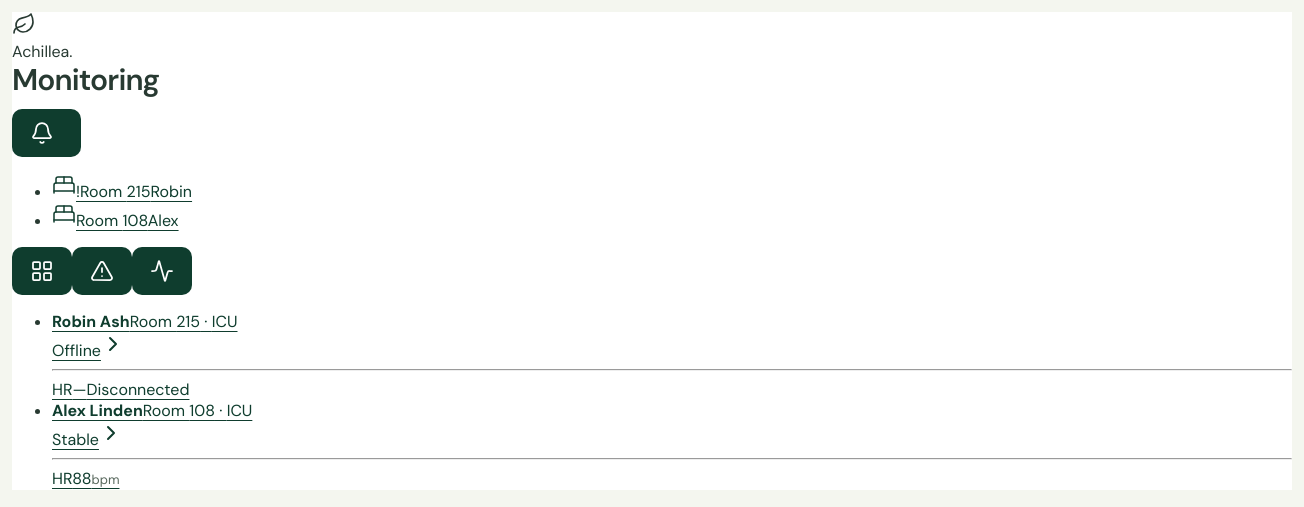
Monitoring feed visible measurement provenance › shows actual room labels and filters the patient cards through labeled controls
Check: the 1st text "Room 108" is shown, box [76,210,148,231]
Check: the 1st text "Room 215" is shown, box [80,181,150,202]
What coordinates should you click on to do the following:
click the button named "Needs Attention"
I would click on:
 (102, 271)
Its box is [72,247,132,295].
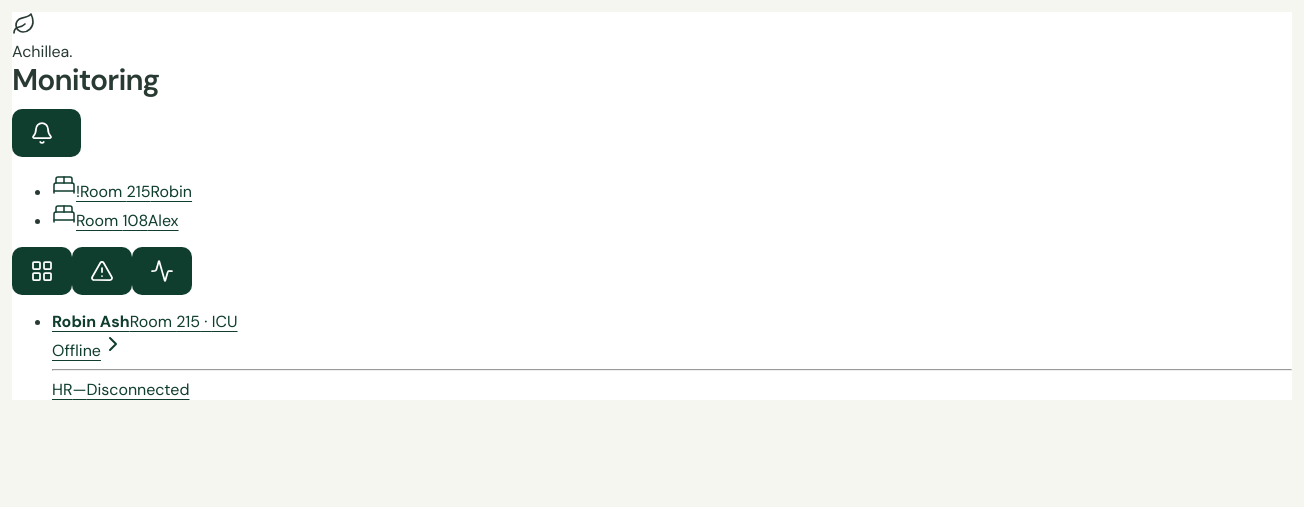
Check: the link "Robin Ash" is shown, box [52,311,1292,400]
Check: the link "Alex Linden" is gone
What coordinates should you click on to do the following:
click the button named "Stable"
I would click on:
 (162, 271)
Its box is [132,247,192,295].
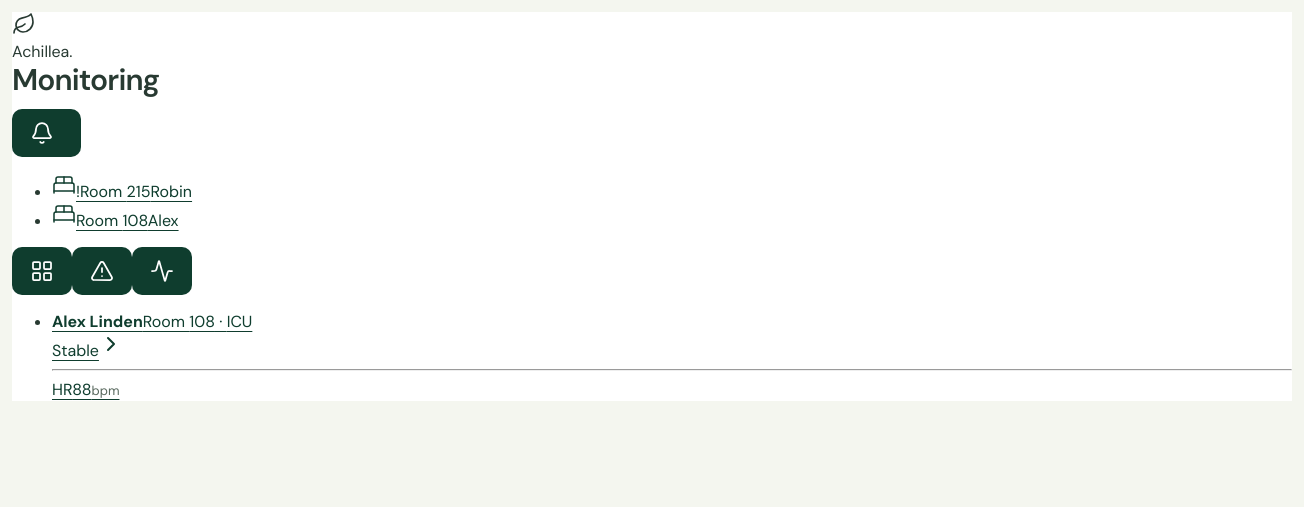
Check: the link "Alex Linden" is shown, box [52,311,1292,401]
Check: the link "Robin Ash" is gone
What coordinates should you click on to do the following:
click the button named "1 patient needs attention"
I would click on:
 (46, 133)
Its box is [12,109,81,157].
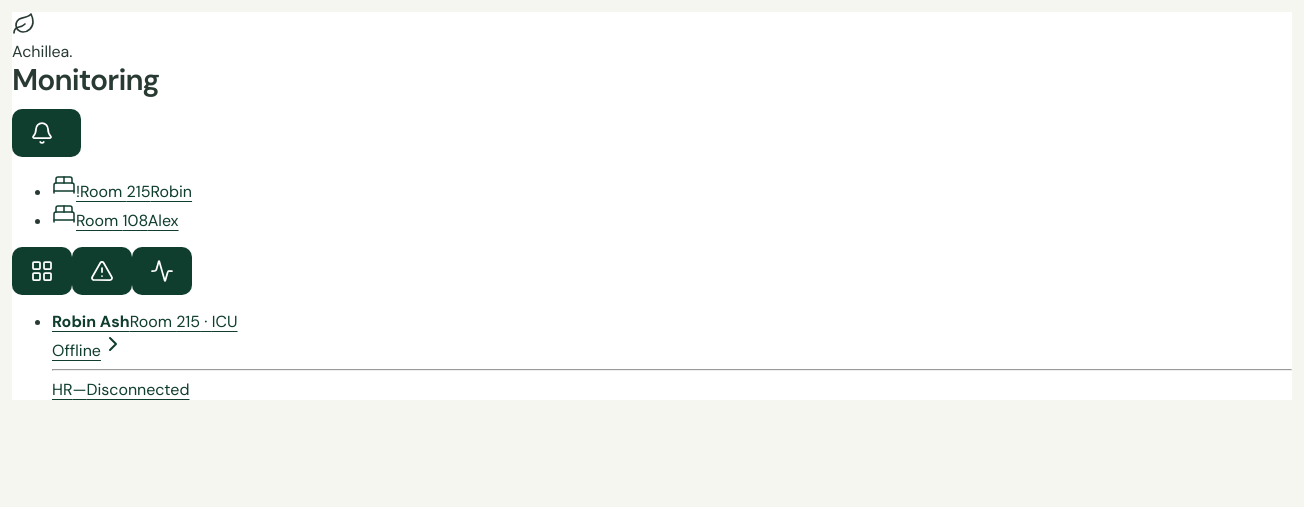
Check: the link "Robin Ash" is shown, box [52,311,1292,400]
